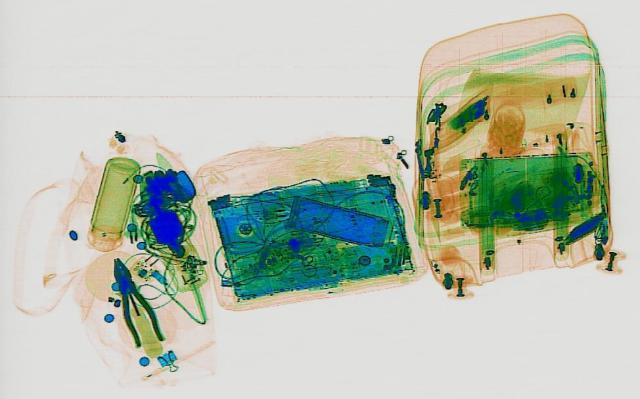Pliers: (98, 256, 166, 346)
